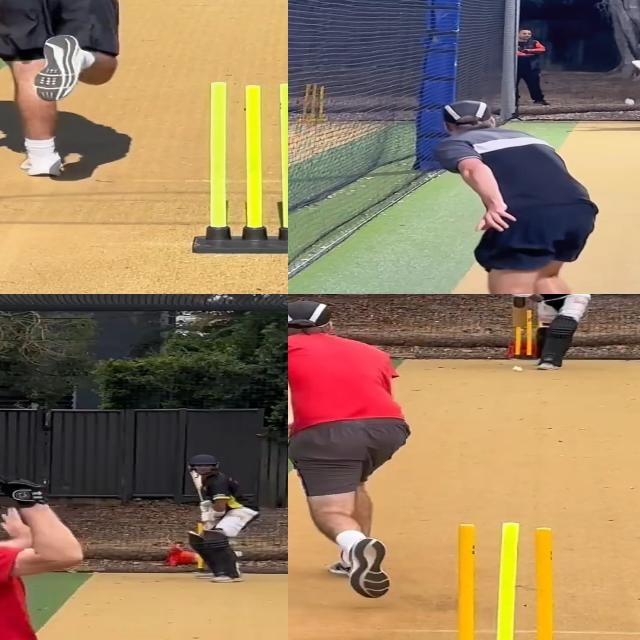Cricket ball: (624, 97, 636, 105), (512, 365, 524, 372)
Stumps: (440, 523, 568, 640)
